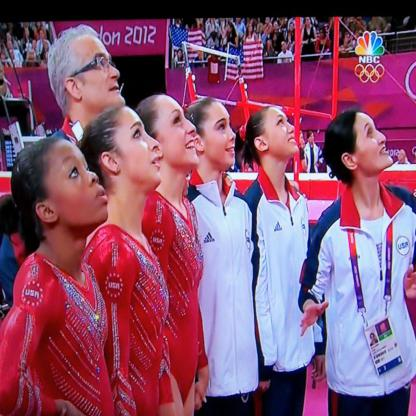face: (49, 139, 110, 224), (117, 105, 160, 185), (79, 35, 125, 104), (155, 97, 199, 165), (354, 115, 392, 169), (206, 102, 237, 163), (266, 110, 297, 154)
